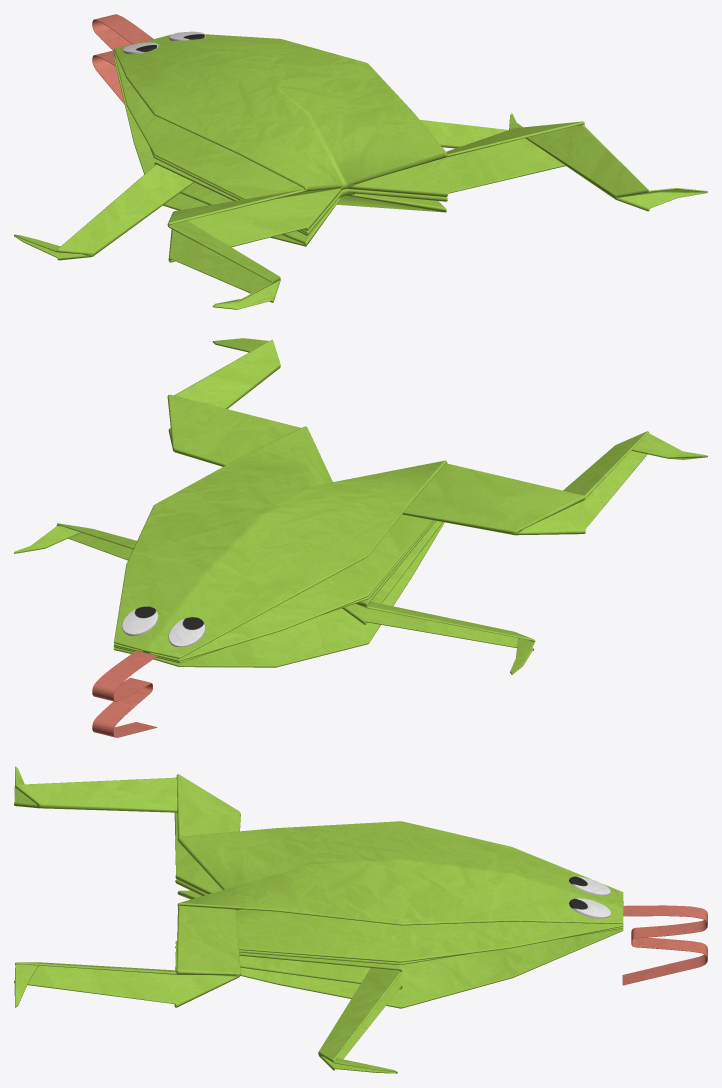
Rendered from frog-model.fbx.
3 views of the same model, one above another, from view 1: azimuth 30°, elevation 25°; view 2: azimuth 150°, elevation 25°; view 3: azimuth 270°, elevation 25° (orthographic). The views are drawn at different scales.
Parts seen in each view (by area): view 1: root.003; view 2: root.003; view 3: root.003.
Boxes of the visible parts, x1,y1,x2,y2 form: root.003: (14, 14, 707, 309); root.003: (14, 338, 707, 737); root.003: (14, 766, 707, 1073).
Bounding box in the file's own units: 45.37 × 10.86 × 56.37.
Materials: 1 (1 with a texture image).
